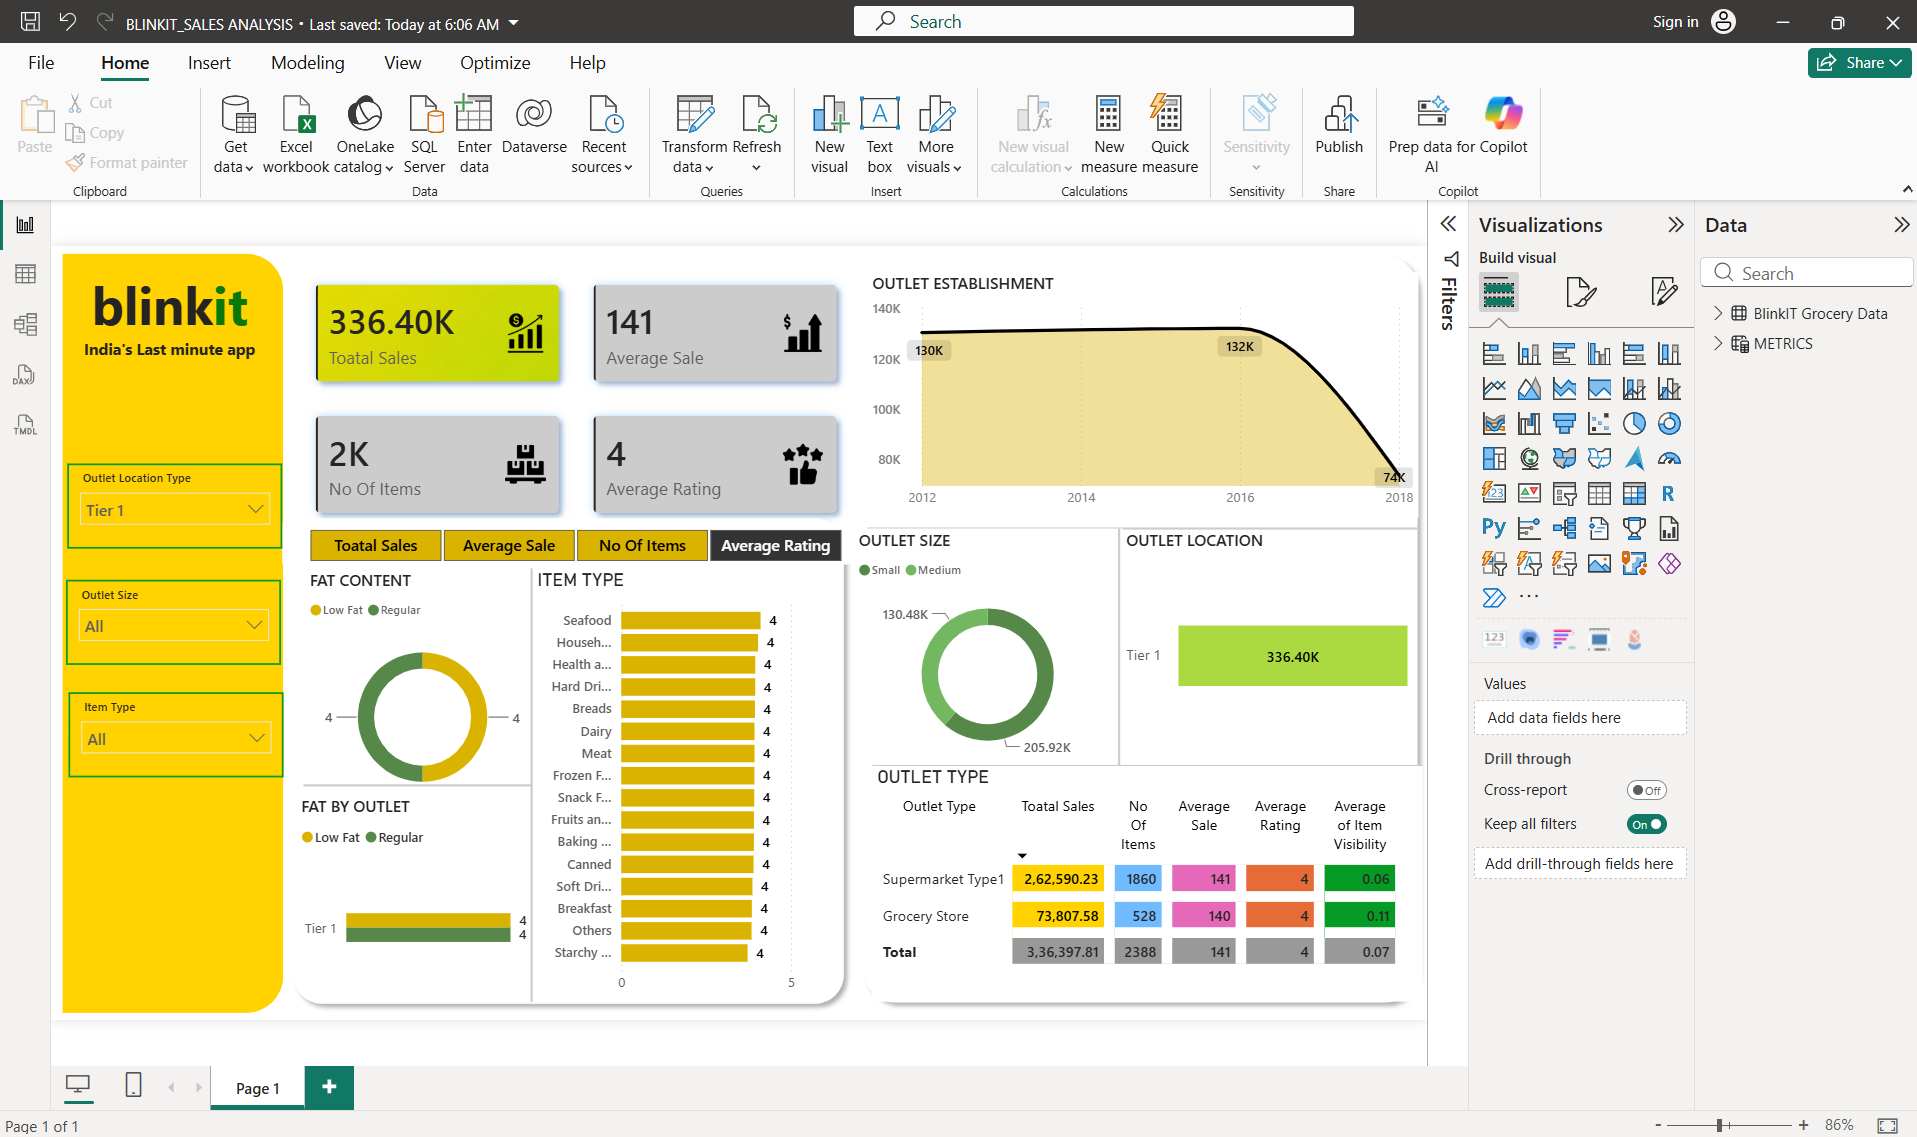

This screenshot's page, from the dashboard's own definition file:
{"tool":"powerbi","page":{"name":"Page 1","canvas":[1280,720],"ordinal":0},"visuals":[{"type":"shape","box":[11,6.9,205.8,706.7],"z":0},{"type":"textbox","box":[10.5,16.3,200,98.8],"z":1000},{"type":"cardVisual","fields":{"Data":["BlinkIT Grocery Data.Toatal Sales","BlinkIT Grocery Data.Average Sale","BlinkIT Grocery Data.No Of Items","BlinkIT Grocery Data.Average Rating"]},"box":[217.2,7.3,542.5,270.2],"z":2000},{"type":"shape","box":[216.3,244.2,530.2,469.8],"z":3000},{"type":"donutChart","title":"FAT CONTENT","fields":{"Category":["BlinkIT Grocery Data.Item Fat Content"],"Y":["BlinkIT Grocery Data.Average Rating"]},"box":[236,300.5,219.6,229.2],"z":4000},{"type":"slicer","fields":{"Values":["METRICS.METRICS"]},"box":[215.1,257,544.2,39.5],"z":5000},{"type":"clusteredBarChart","title":"FAT BY OUTLET","fields":{"Category":["BlinkIT Grocery Data.Outlet Location Type"],"Series":["BlinkIT Grocery Data.Item Fat Content"],"Y":["BlinkIT Grocery Data.Average Rating"]},"box":[227.9,510.5,219.8,193],"z":6000},{"type":"shape","box":[420.9,300,52.3,403.5],"z":7000},{"type":"shape","box":[234.9,474.4,212.8,54.7],"z":8000},{"type":"barChart","title":"ITEM TYPE","fields":{"Category":["BlinkIT Grocery Data.Item Type"],"Y":["BlinkIT Grocery Data.Average Rating"]},"box":[447.7,300,281.4,403.5],"z":9000},{"type":"shape","box":[746.5,0,533.7,712.8],"z":10000},{"type":"lineChart","title":"OUTLET ESTABLISHMENT","fields":{"Category":["BlinkIT Grocery Data.Outlet Establishment Year"],"Y":["BlinkIT Grocery Data.Toatal Sales"]},"box":[759.3,24.4,512.8,227.9],"z":11000},{"type":"shape","box":[759.3,244.2,511.6,37.2],"z":12000},{"type":"donutChart","title":"OUTLET SIZE","fields":{"Category":["BlinkIT Grocery Data.Outlet Size"],"Y":["BlinkIT Grocery Data.Toatal Sales"]},"box":[746.5,262.8,250,224.4],"z":13000},{"type":"shape","box":[967.4,262.8,52.3,220.9],"z":14000},{"type":"funnel","title":"OUTLET LOCATION","fields":{"Category":["BlinkIT Grocery Data.Outlet Location Type"],"Y":["Sum(BlinkIT Grocery Data.Sales)"]},"box":[995.4,262.8,276.7,216.3],"z":15000},{"type":"shape","box":[764,465.1,511.6,37.2],"z":16000},{"type":"pivotTable","title":"OUTLET TYPE","fields":{"Rows":["BlinkIT Grocery Data.Outlet Type"],"Values":["BlinkIT Grocery Data.Toatal Sales","BlinkIT Grocery Data.No Of Items","BlinkIT Grocery Data.Average Sale","BlinkIT Grocery Data.Average Rating","Avg(BlinkIT Grocery Data.Item Visibility)"]},"box":[764,484,512,219],"z":17000},{"type":"slicer","fields":{"Values":["BlinkIT Grocery Data.Outlet Location Type"]},"box":[15.1,202.3,200,79.1],"z":18000},{"type":"slicer","fields":{"Values":["BlinkIT Grocery Data.Outlet Size"]},"box":[14,310,200,79],"z":19000},{"type":"slicer","fields":{"Values":["BlinkIT Grocery Data.Item Type"]},"box":[16,415,200,79],"z":20000}]}

Visuals, with their boxes on the page's 1280x720 design canvas (x1, y1, x2, y2). These are canvas units, not pixel positions in the 1917x1137 screenshot, which may show the page scaled, cropped or inside an application window:
shape: region(11, 7, 217, 714)
textbox: region(10, 16, 210, 115)
cardVisual - BlinkIT Grocery Data.Toatal Sales x BlinkIT Grocery Data.Average Sale: region(217, 7, 760, 278)
shape: region(216, 244, 746, 714)
"FAT CONTENT" donutChart: region(236, 300, 456, 530)
slicer - METRICS.METRICS: region(215, 257, 759, 296)
"FAT BY OUTLET" clusteredBarChart: region(228, 510, 448, 704)
shape: region(421, 300, 473, 704)
shape: region(235, 474, 448, 529)
"ITEM TYPE" barChart: region(448, 300, 729, 704)
shape: region(746, 0, 1280, 713)
"OUTLET ESTABLISHMENT" lineChart: region(759, 24, 1272, 252)
shape: region(759, 244, 1271, 281)
"OUTLET SIZE" donutChart: region(746, 263, 996, 487)
shape: region(967, 263, 1020, 484)
"OUTLET LOCATION" funnel: region(995, 263, 1272, 479)
shape: region(764, 465, 1276, 502)
"OUTLET TYPE" pivotTable: region(764, 484, 1276, 703)
slicer - BlinkIT Grocery Data.Outlet Location Type: region(15, 202, 215, 281)
slicer - BlinkIT Grocery Data.Outlet Size: region(14, 310, 214, 389)
slicer - BlinkIT Grocery Data.Item Type: region(16, 415, 216, 494)
